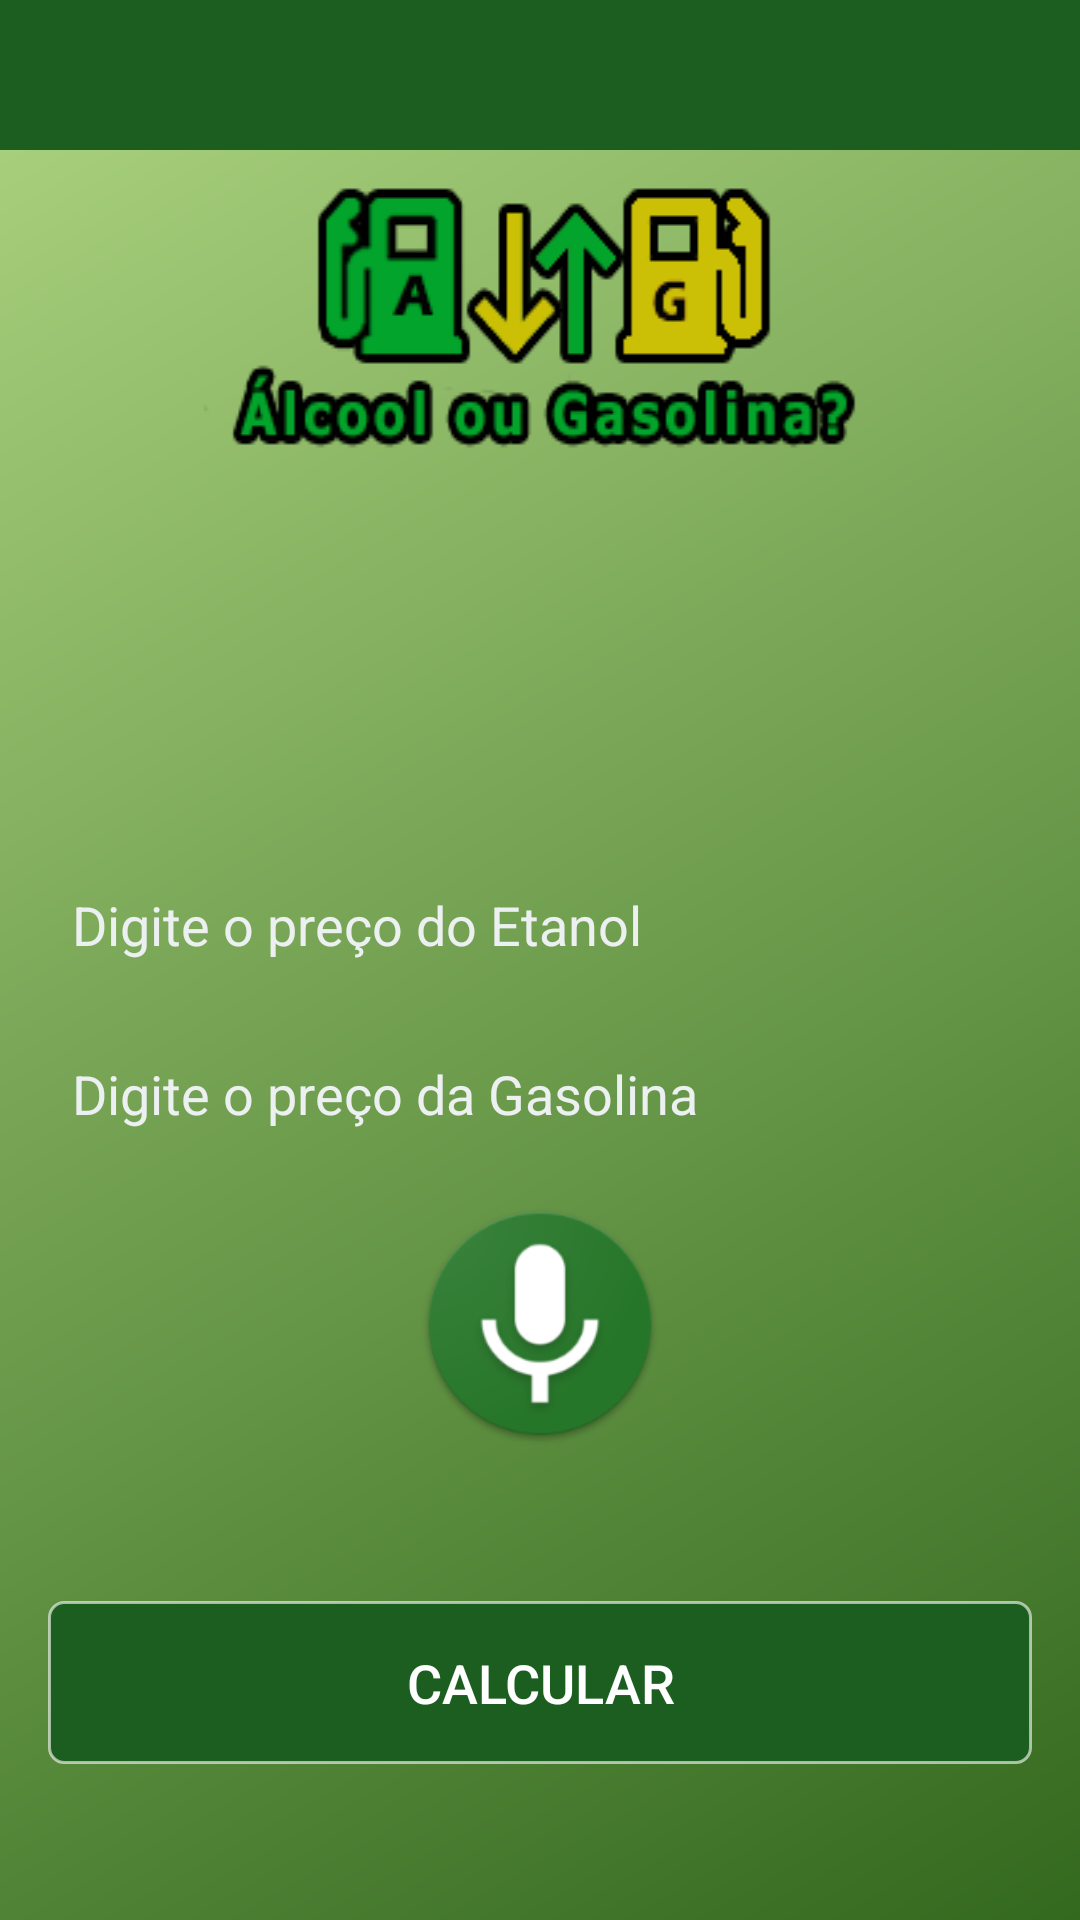

Icon bounding boxes for this 1080*1920 phone screenshot, format (x1, y1, x2, y2):
voice command: (428, 1213, 652, 1440)
